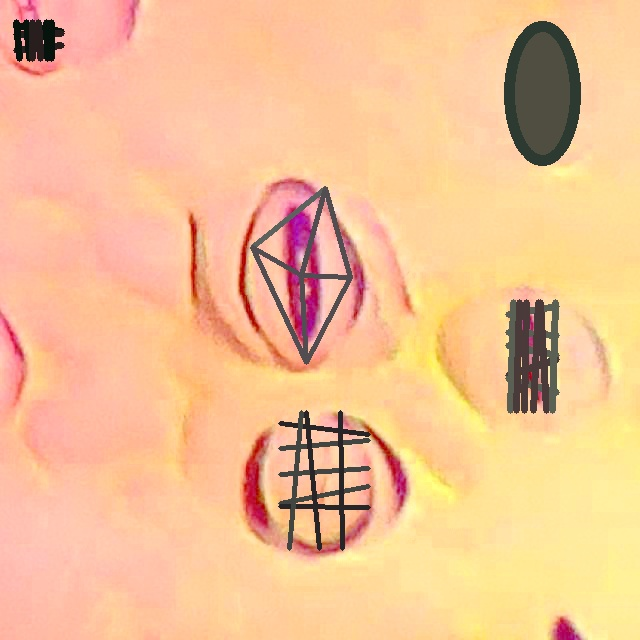close: (278, 410, 370, 550)
open: (251, 186, 351, 364), (504, 21, 581, 165), (505, 299, 558, 413), (13, 19, 64, 61)
